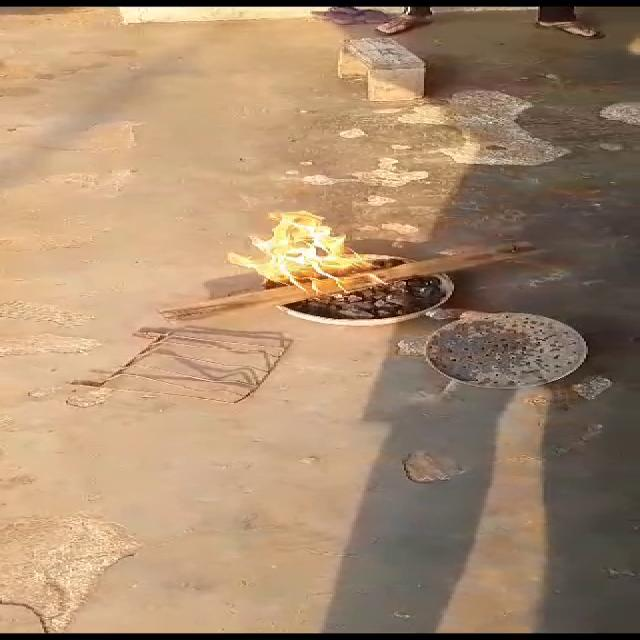Fire: (220, 208, 402, 302)
